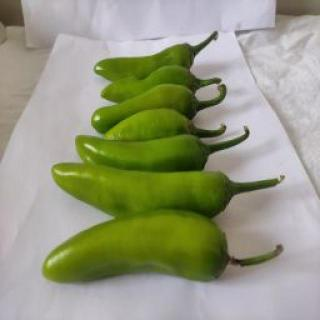Cabai Hijau: (36, 208, 288, 290), (47, 160, 290, 220), (72, 125, 254, 173), (91, 30, 223, 85)
